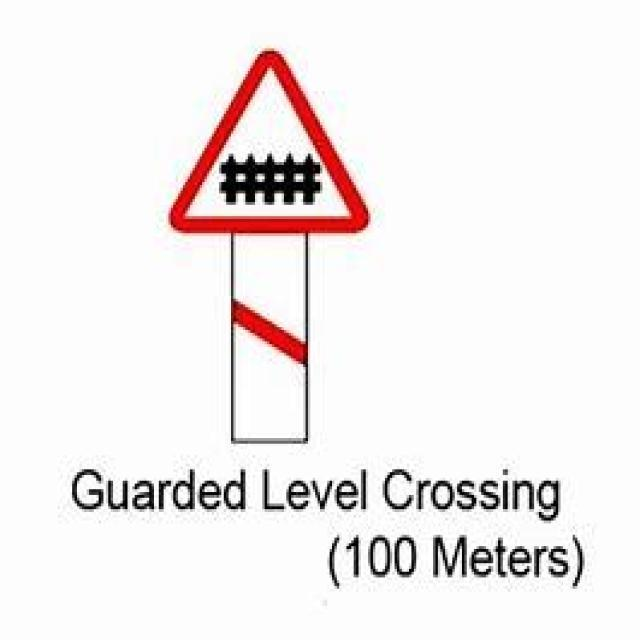guarded level crossing: (165, 49, 376, 241)
